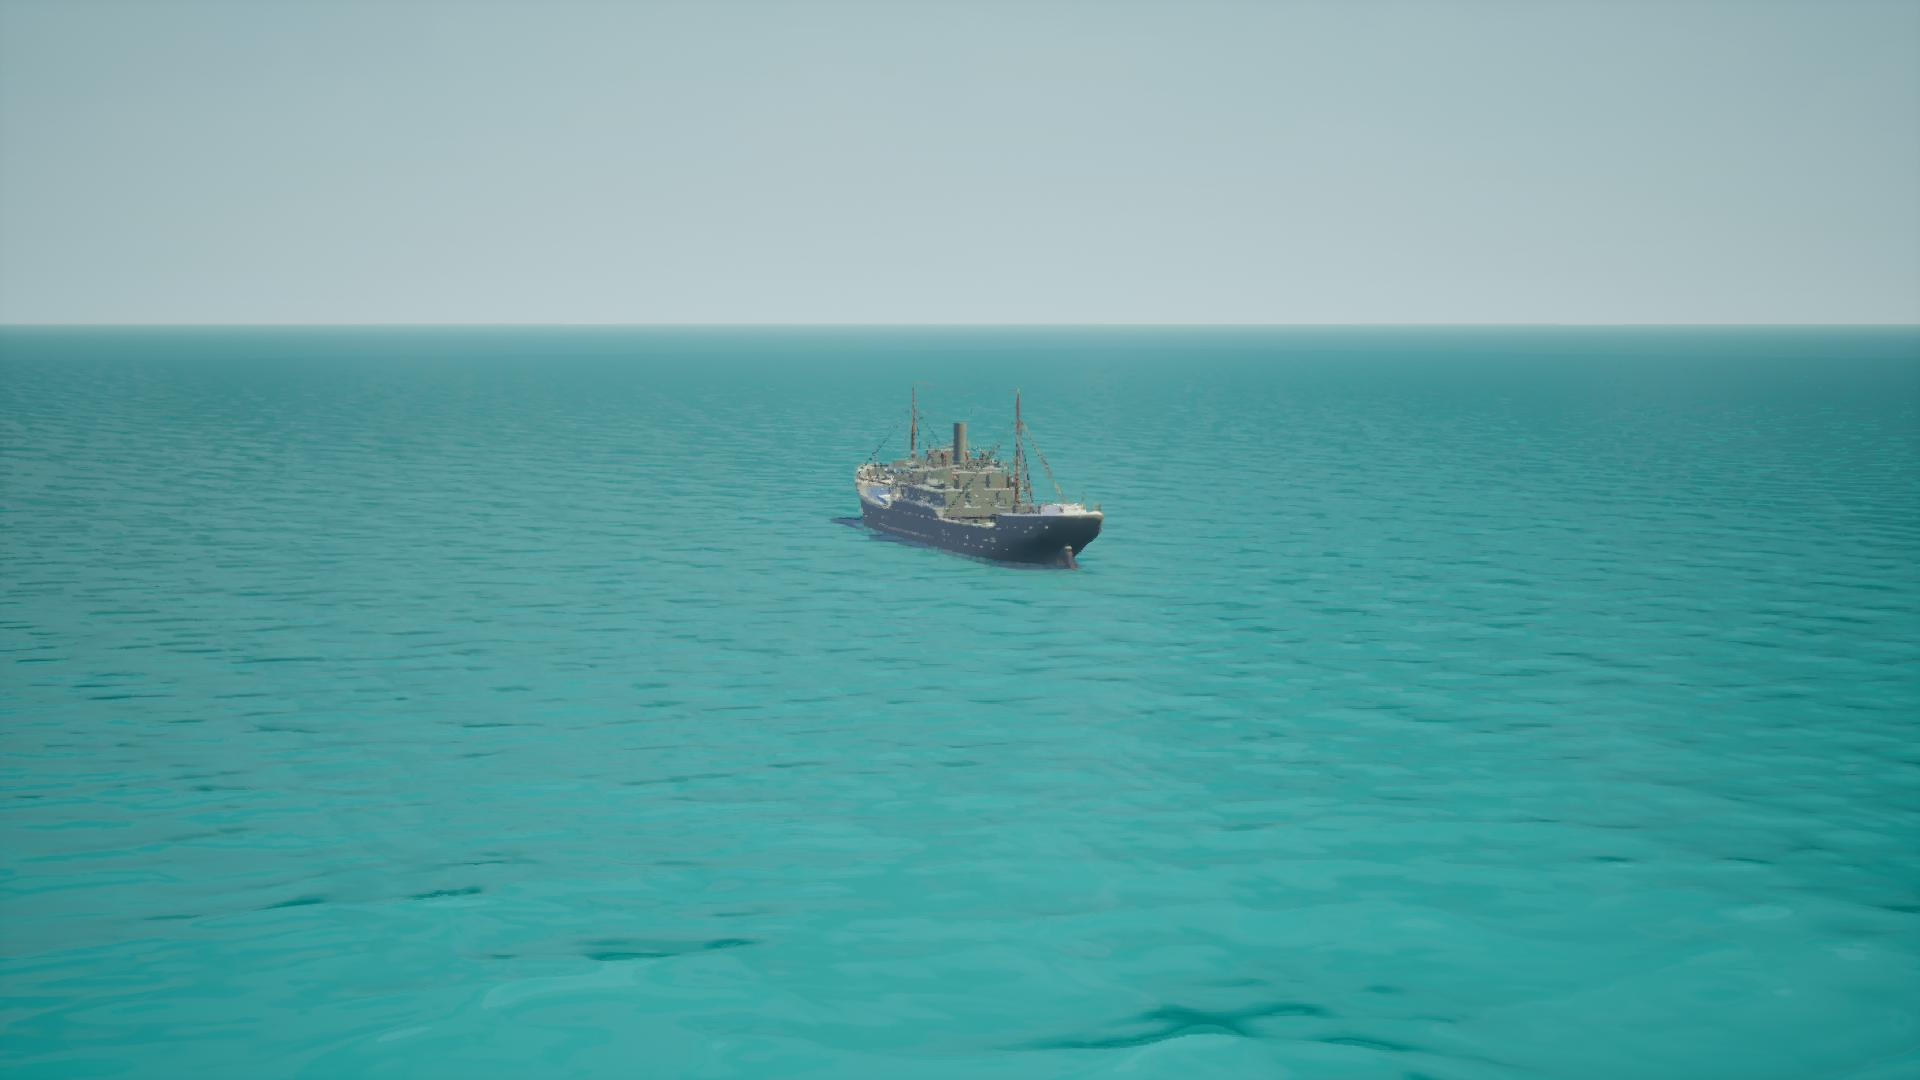Fishing Boat: (843, 385, 1100, 571)
